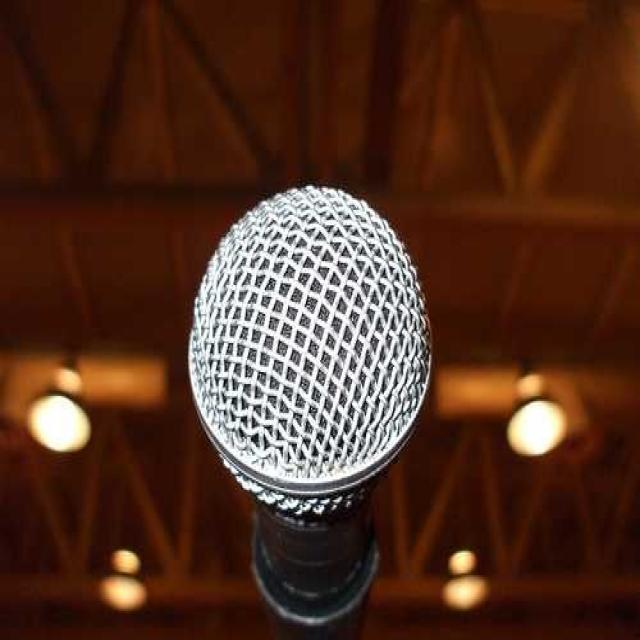microphone: (187, 186, 434, 638)
